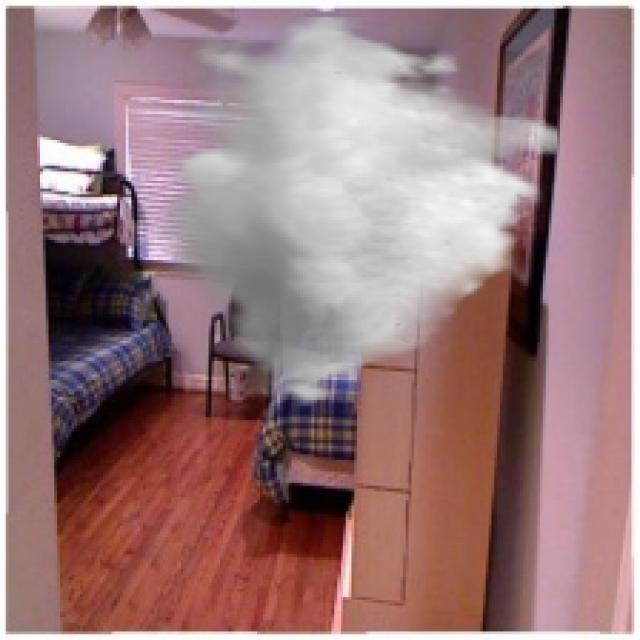smoke: (157, 14, 560, 414)
